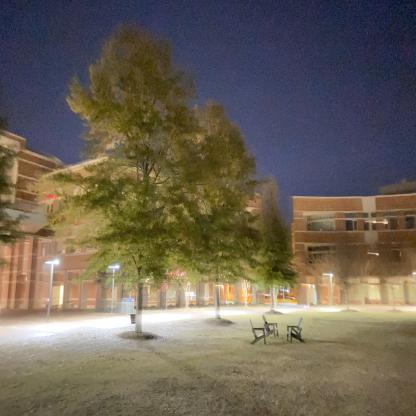eb2: (0, 132, 276, 303)
